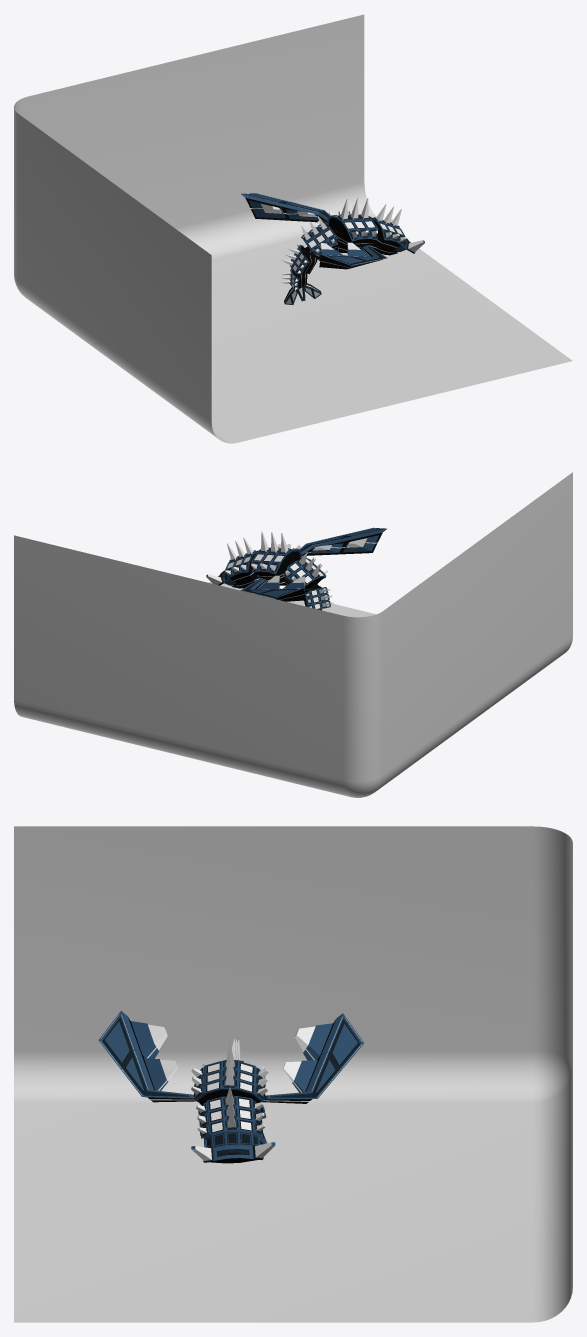
File: fishBoss.fbx
3 views of the same model, one above another, from view 1: azimuth 30°, elevation 25°; view 2: azimuth 150°, elevation 25°; view 3: azimuth 270°, elevation 25° (orthographic). The views are drawn at different scales.
Visible parts, largest first — view 1: Plane, Cube.001, Cube.005, Cube.002, Cube.003; view 2: Plane, Cube.001, Cube.005, Cube.002, Cube.003; view 3: Plane, Cube.001, Cube.005.
Boxes of the visible parts, x1=… form: Plane: x1=14, y1=14, x2=572, y2=443; Cube.001: x1=241, y1=193, x2=387, y2=269; Cube.005: x1=370, y1=204, x2=424, y2=255; Cube.002: x1=301, y1=216, x2=339, y2=260; Cube.003: x1=282, y1=244, x2=317, y2=275; Plane: x1=14, y1=472, x2=572, y2=797; Cube.001: x1=240, y1=527, x2=386, y2=601; Cube.005: x1=206, y1=538, x2=259, y2=588; Cube.002: x1=283, y1=551, x2=327, y2=592; Cube.003: x1=304, y1=587, x2=333, y2=610; Plane: x1=14, y1=826, x2=572, y2=1322; Cube.001: x1=98, y1=1011, x2=363, y2=1105; Cube.005: x1=191, y1=1087, x2=275, y2=1163.
Size of the model in its own units: 1000 by 513 by 1000.
